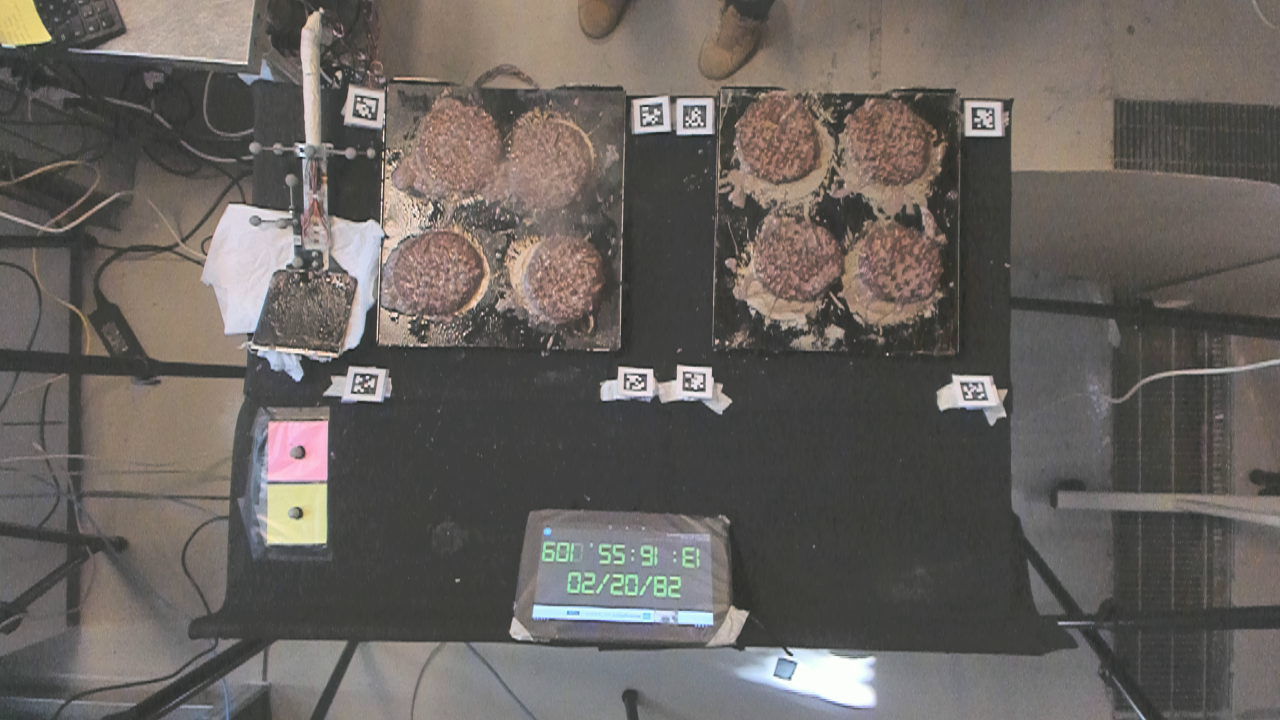hamburger: (408, 102, 500, 200), (506, 115, 597, 211), (392, 232, 482, 317), (519, 232, 602, 324), (736, 90, 820, 180), (752, 215, 842, 299), (850, 100, 936, 185), (861, 222, 946, 305)
marker: (266, 419, 329, 484)
